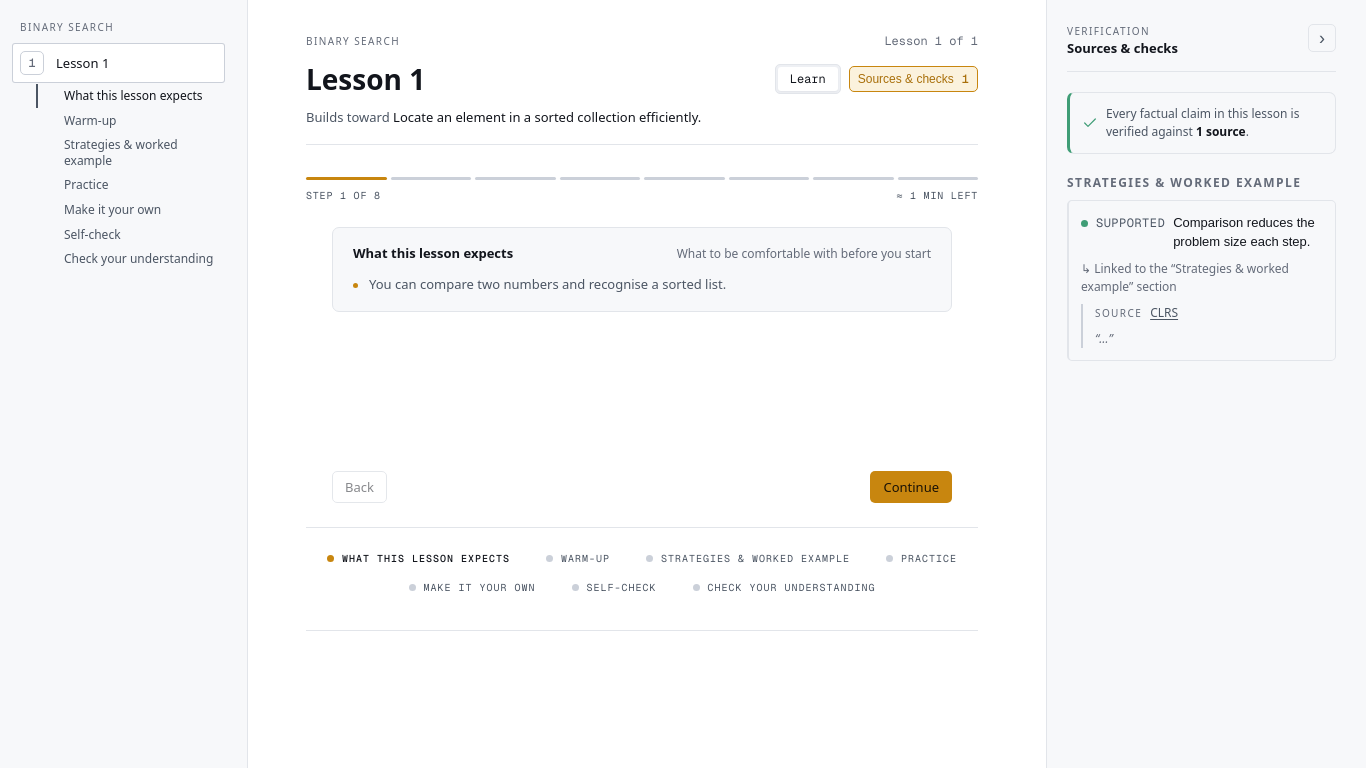
it: CourseReader — Learn mode › walks the lesson one step at a time with Continue and Back
Expected: the text "Step 1 of 8" is shown, [306,188,381,202]
Expected: the list item "You can compare two numbers and recognise a sorted list." is shown, [369,275,726,293]
Note: Act — advance.
Click the button "Continue": (911,486) [870,470,952,502]
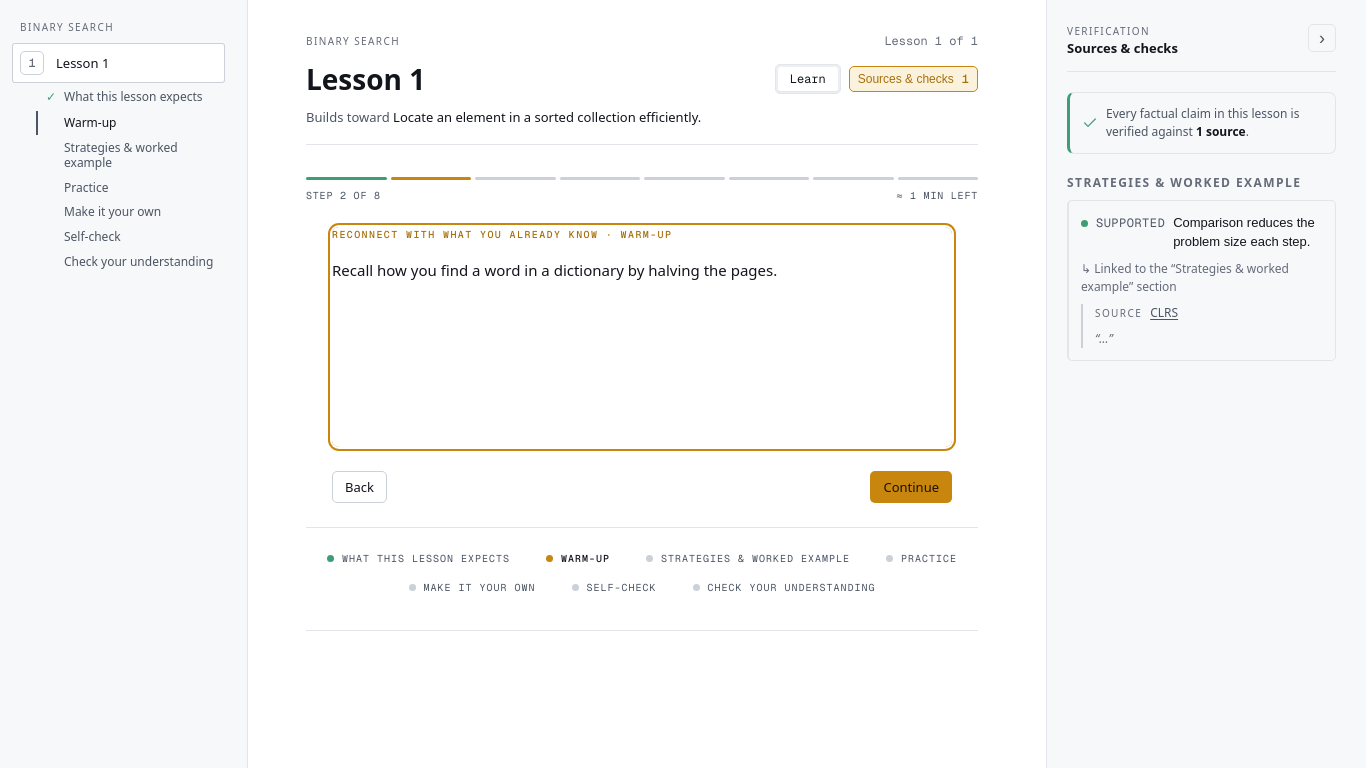
Result: the text "Step 2 of 8" is shown at [306,188,381,202]
Result: the text "Recall how you find a word" is shown at [332,260,777,280]
Result: the list item "You can compare two numbers" is gone
Note: Act — and back again.
Click the button "Back": (359,486) [332,470,387,502]
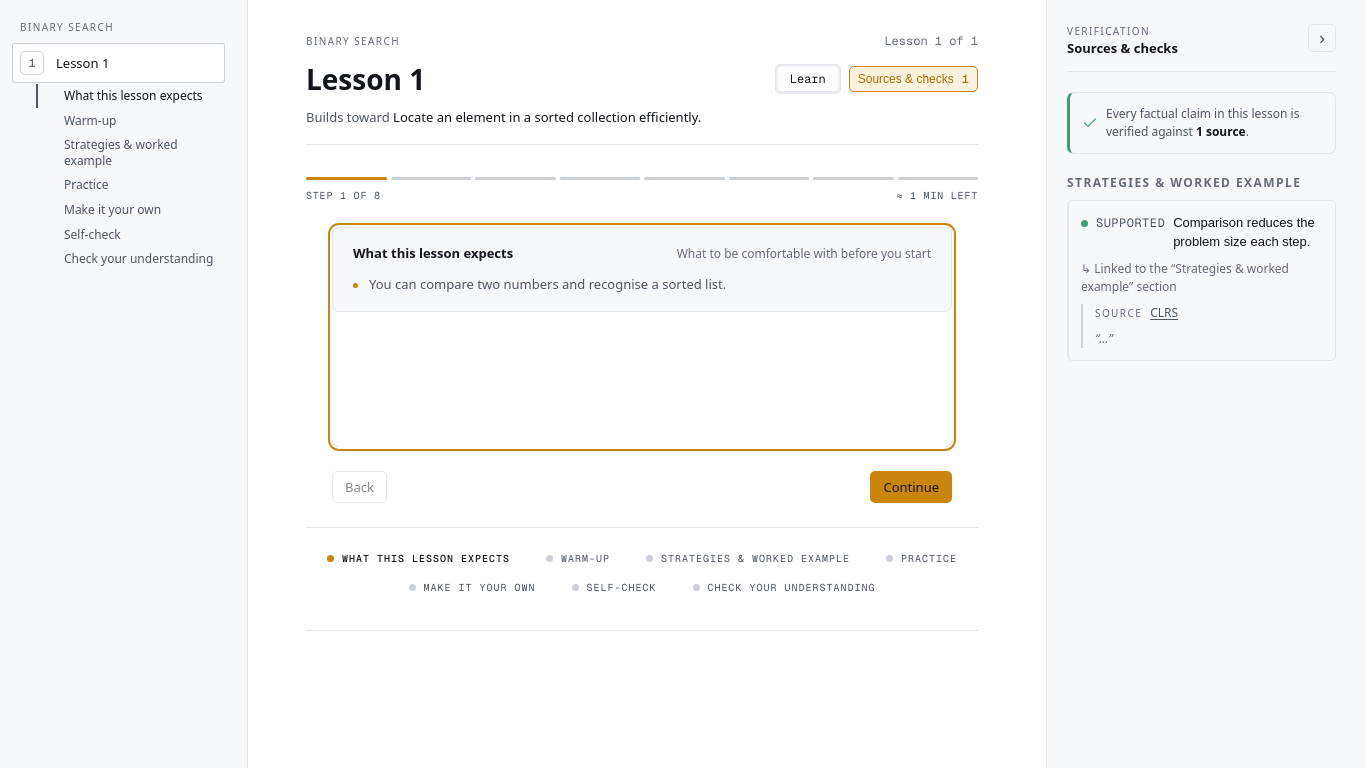
Result: the text "Step 1 of 8" is shown at [306,188,381,202]
